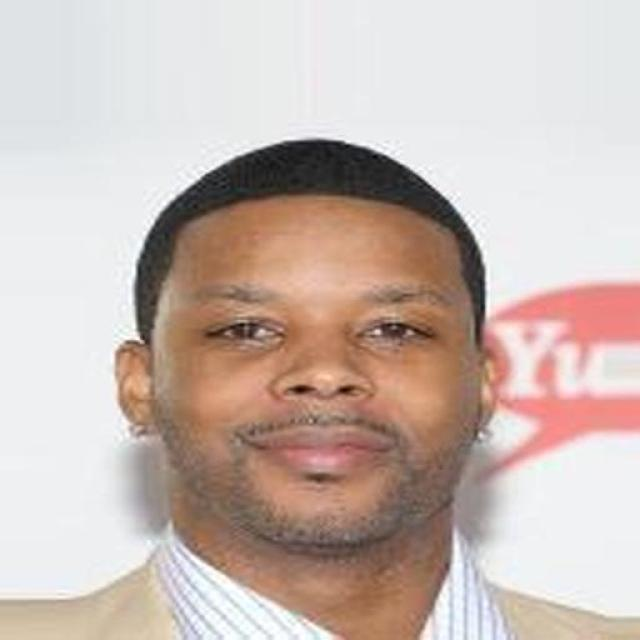bareface: (142, 146, 512, 528)
